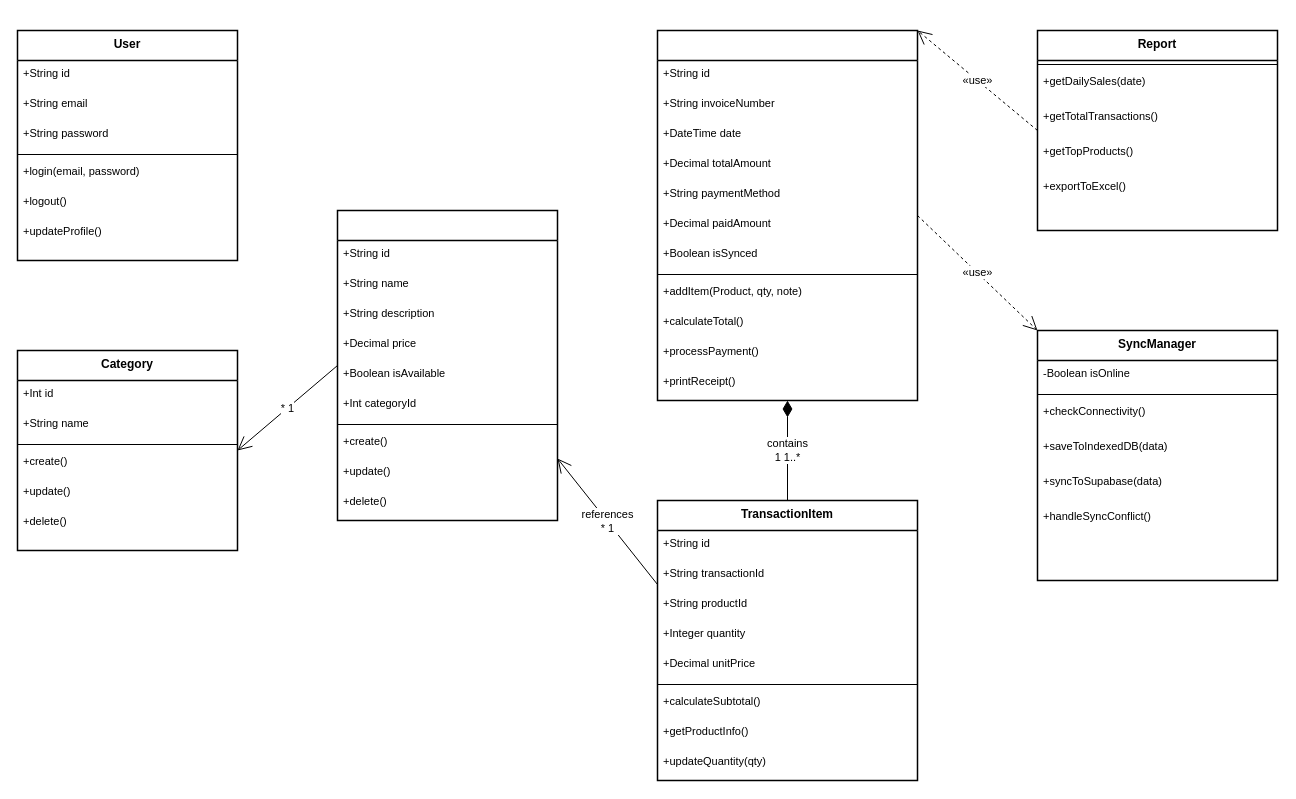
The diagram is 1296 pixels wide and 799 high, and some of its shapes have lost their labels. The shapes that lost their labels are listed below. From the top down, each one's box as (x1, y1, x2, y2) in pixels, then its label:
(656, 29, 918, 401): Transaction
(336, 209, 558, 521): Product
